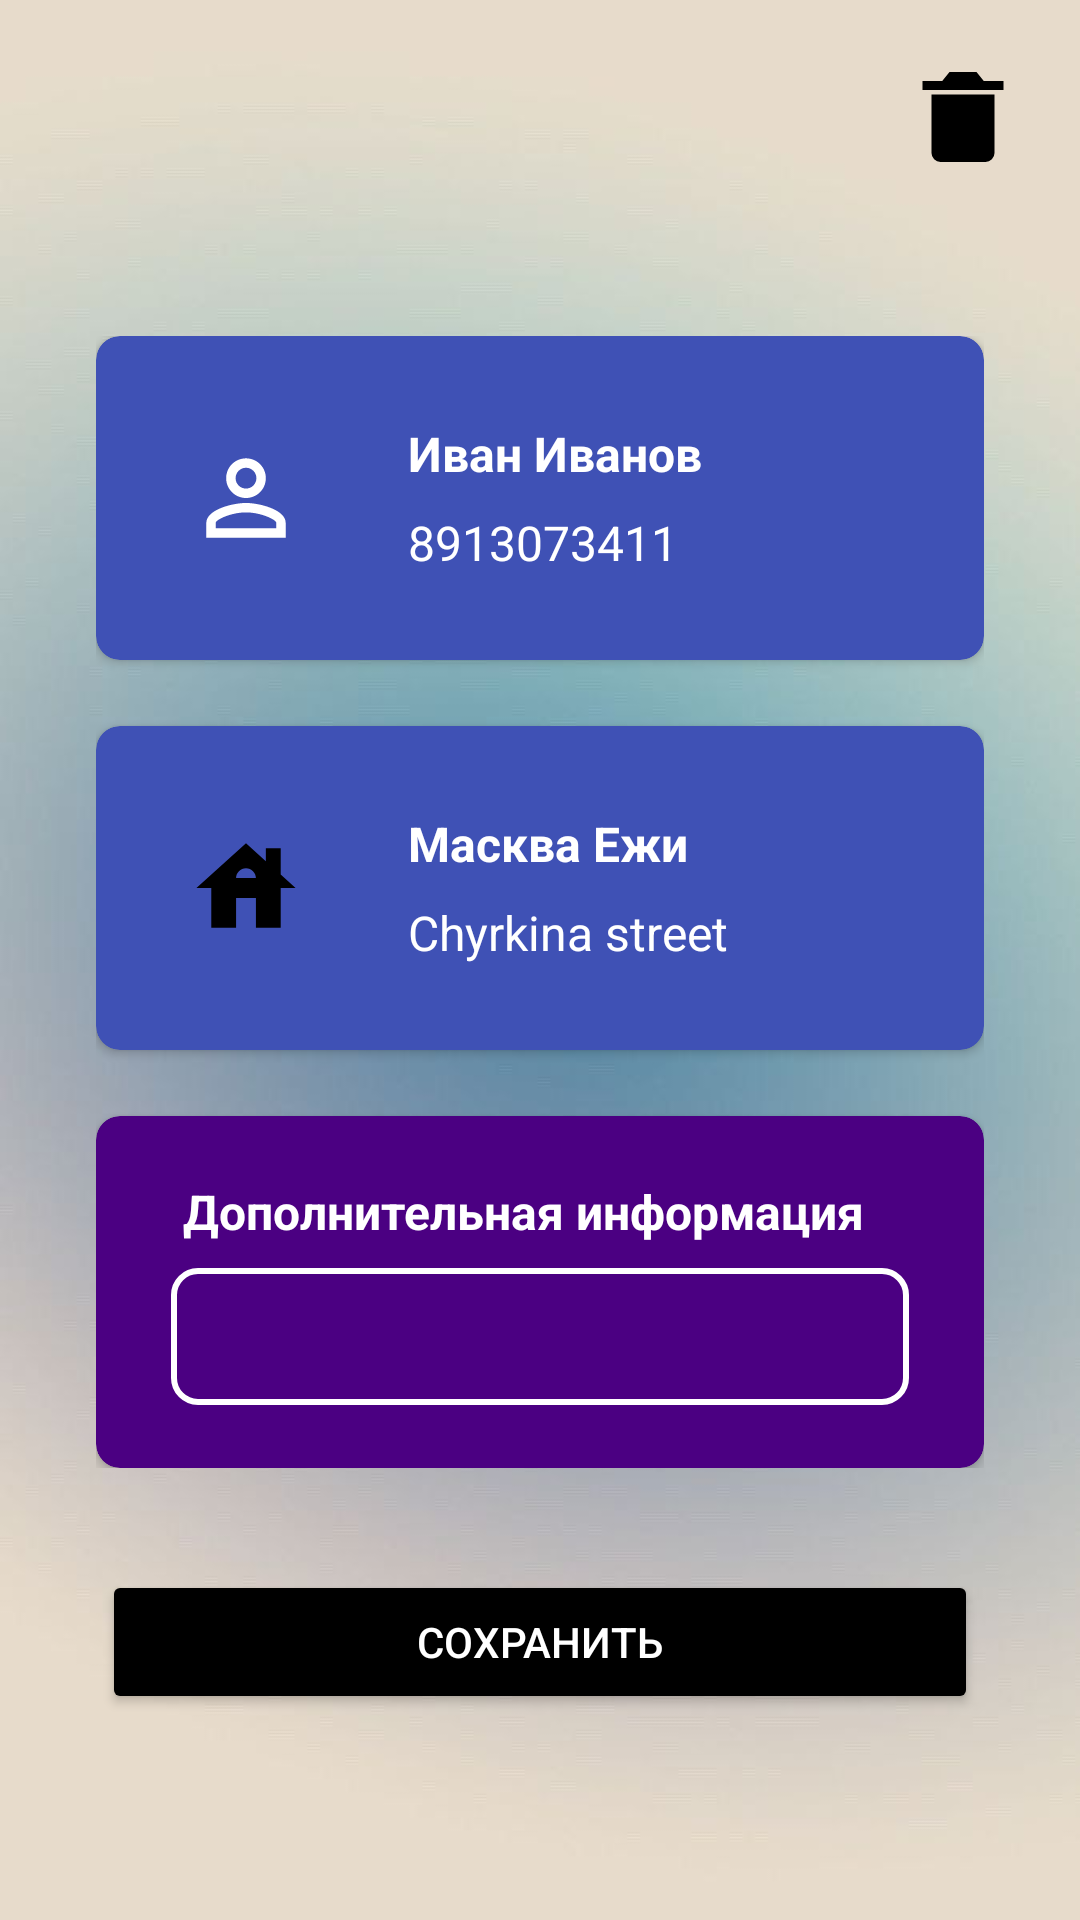

Icon bounding boxes for this 1080*1920 phone screenshot, format [x1,y1,x2,y2]:
adress: [197,843,296,928]
delete button: [922,72,1004,162]
worker: [206,458,286,538]
